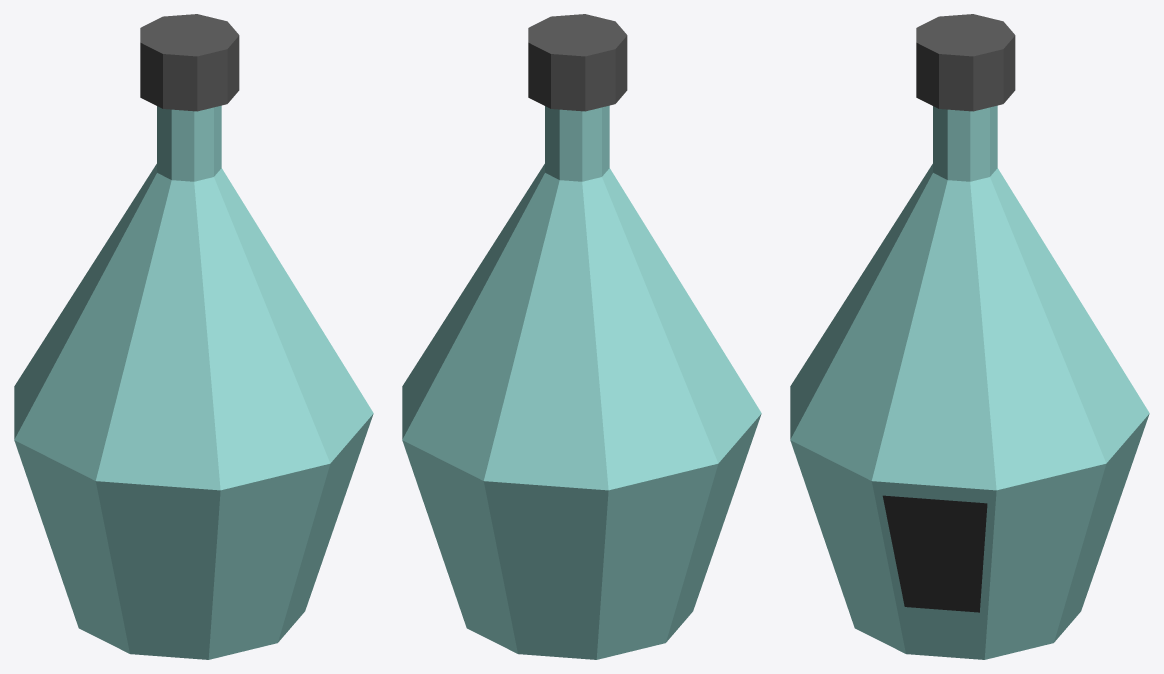
The model's file is Bottle1.fbx.
The picture shows the model from 3 angles, left to right: view 1: azimuth 30°, elevation 25°; view 2: azimuth 150°, elevation 25°; view 3: azimuth 270°, elevation 25°; orthographic projection.
Visible parts, largest first — view 1: Bottle1; view 2: Bottle1; view 3: Bottle1.
Part boxes in pixels (x1=…): Bottle1: x1=14, y1=14, x2=373, y2=659; Bottle1: x1=402, y1=14, x2=761, y2=659; Bottle1: x1=790, y1=14, x2=1149, y2=659.
Size of the model in its own units: 18.47 by 32.16 by 18.19.
